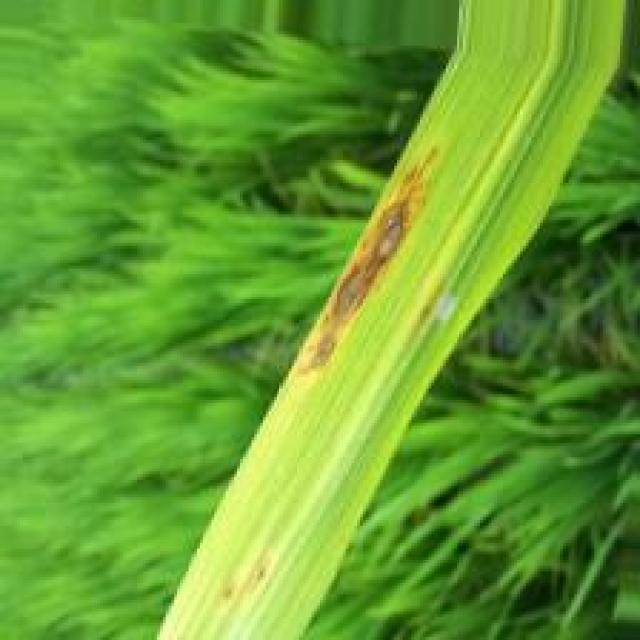Leaf_Blast: (290, 140, 442, 387)
